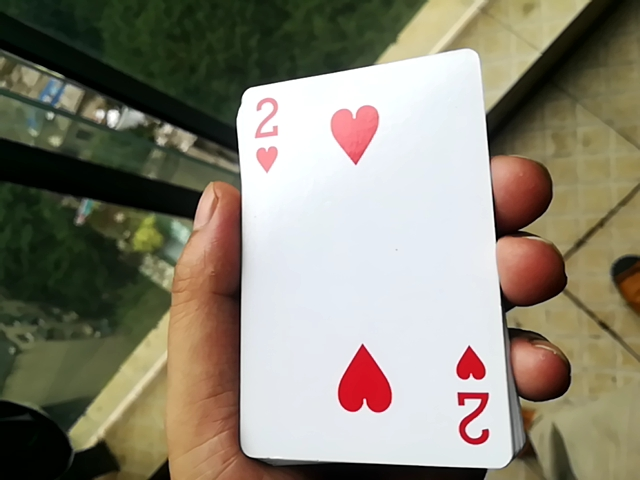hx 2: (228, 42, 511, 472)
